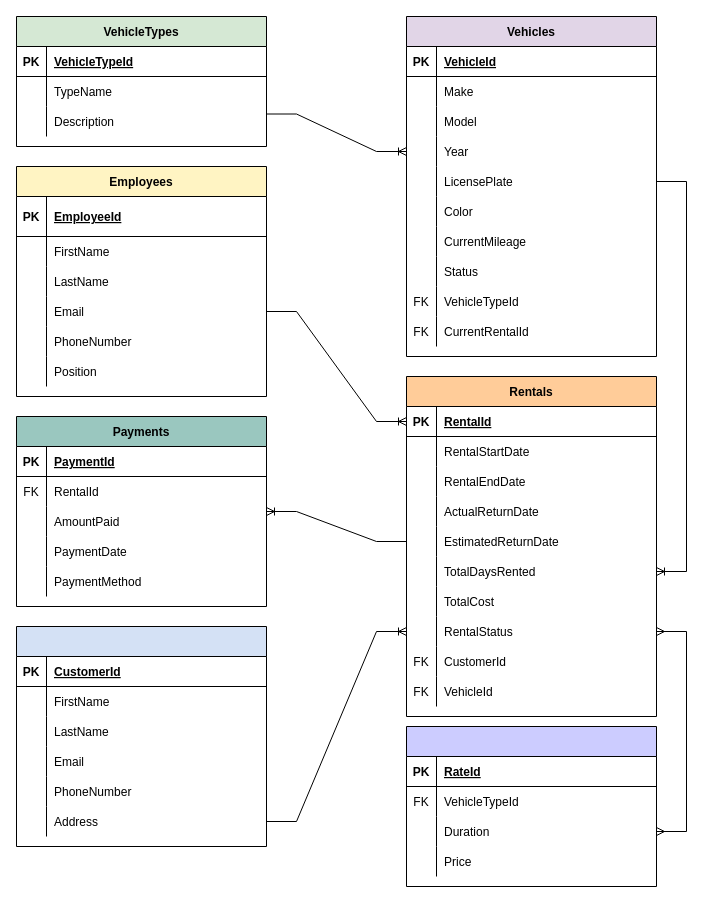
Image size: 703x903. Some labels were removed from this diagram. The box of each missing label's shape, as (x1, y1, x2, y2) in pixels:
Customers: (16, 626, 266, 846)
RentalRates: (406, 726, 656, 886)
